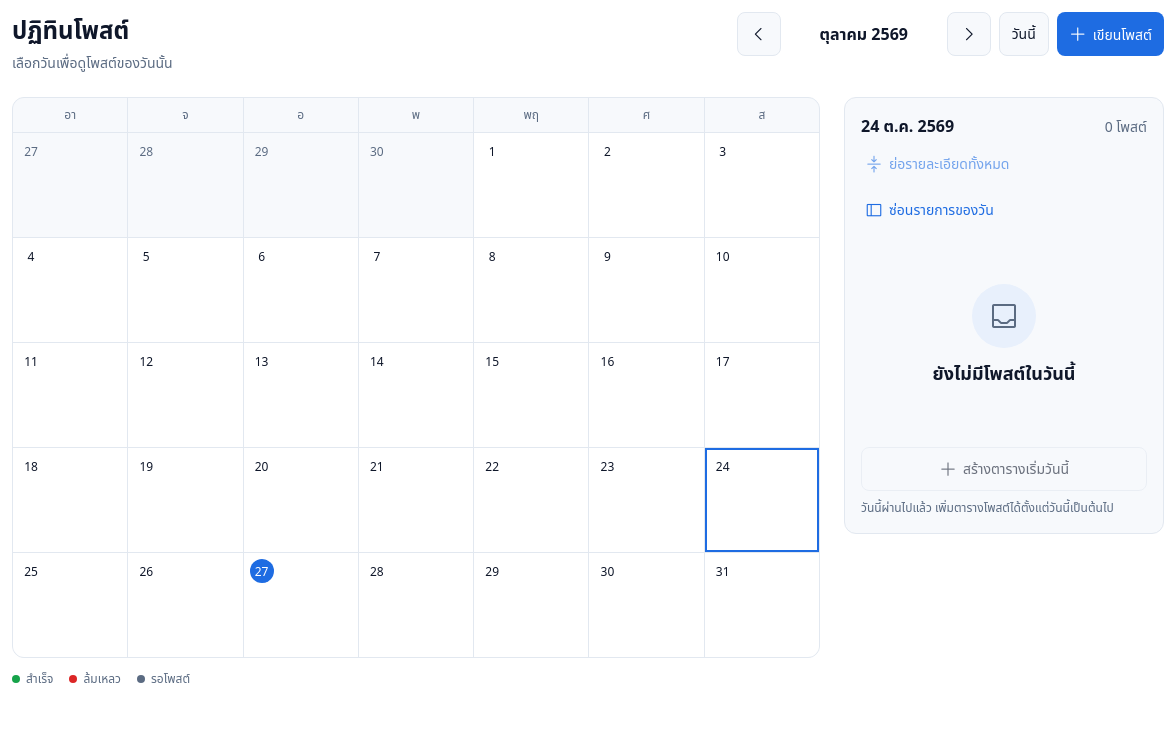
CalendarPageComponent › add and delete › turns "add" on again when a day from today is picked
The width and height of the screenshot is (1164, 732).
Expected: the button "สร้างตารางเริ่มวันนี้" is disabled, [861,447,1147,491]
Click the button "วันนี้": (1024, 34) [999,12,1049,56]
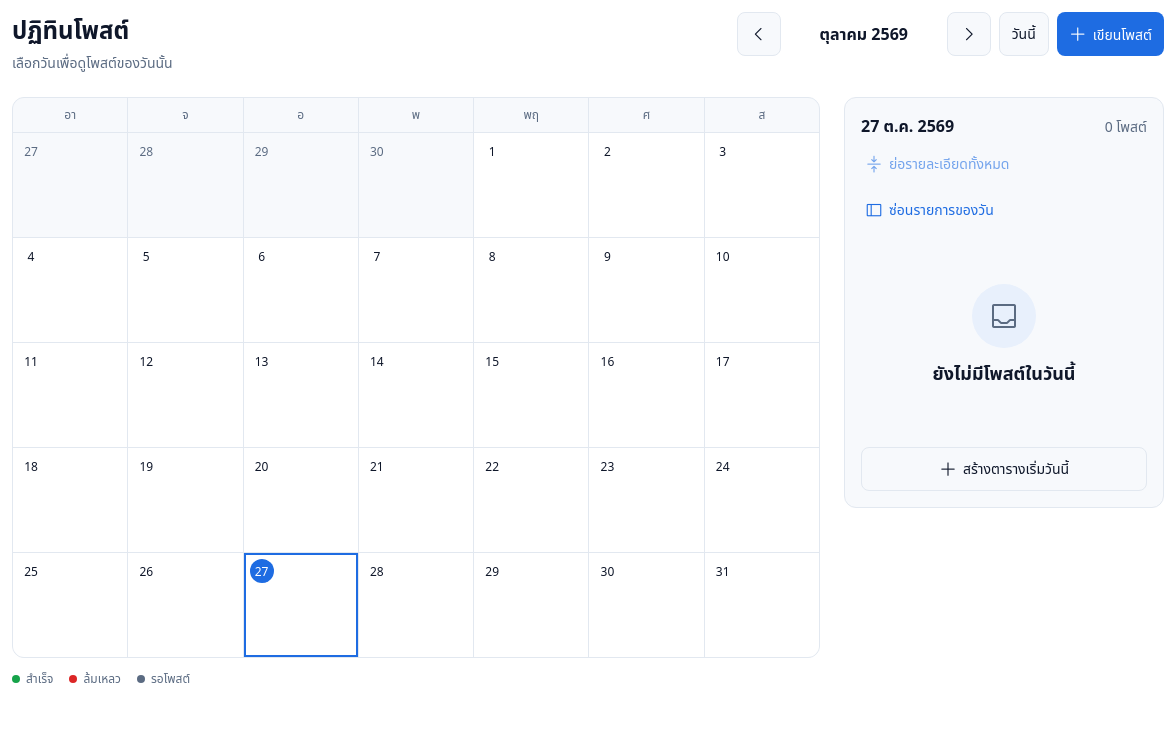
Now the button "สร้างตารางเริ่มวันนี้" is enabled, box [861,447,1147,491]
